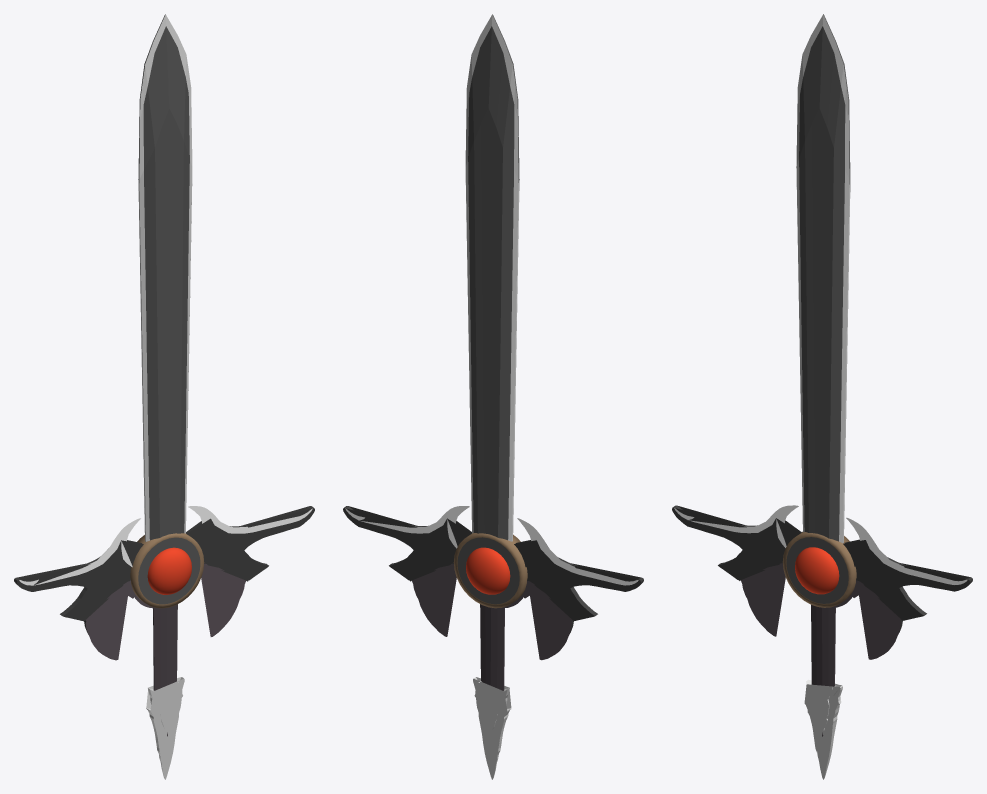
Rendered from espada.fbx.
The picture shows the model from 3 angles, left to right: view 1: azimuth 30°, elevation 25°; view 2: azimuth 150°, elevation 25°; view 3: azimuth 330°, elevation 25°; orthographic projection.
Parts seen in each view (by area): view 1: ESPADA; view 2: ESPADA; view 3: ESPADA.
Part boxes in pixels (x1,y1,x2,y2): ESPADA: (14, 14, 314, 779); ESPADA: (343, 14, 643, 779); ESPADA: (672, 14, 972, 779).
Bounding box in the file's own units: 139 × 341 × 19.09.
